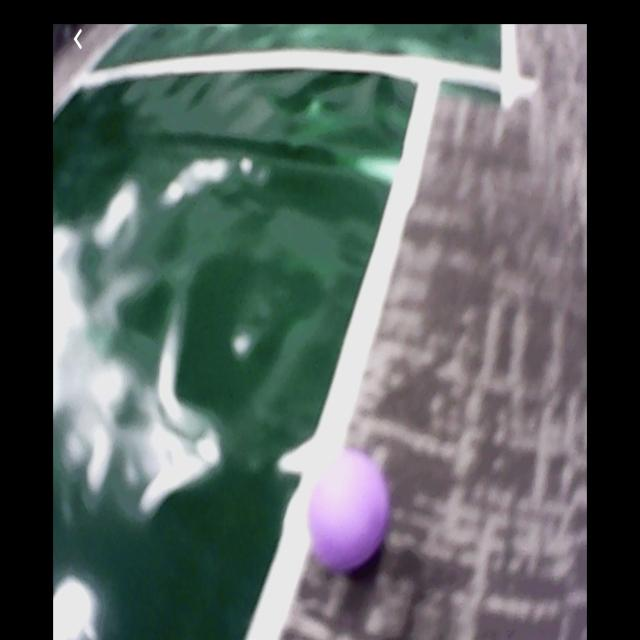ball: (307, 453, 390, 574)
